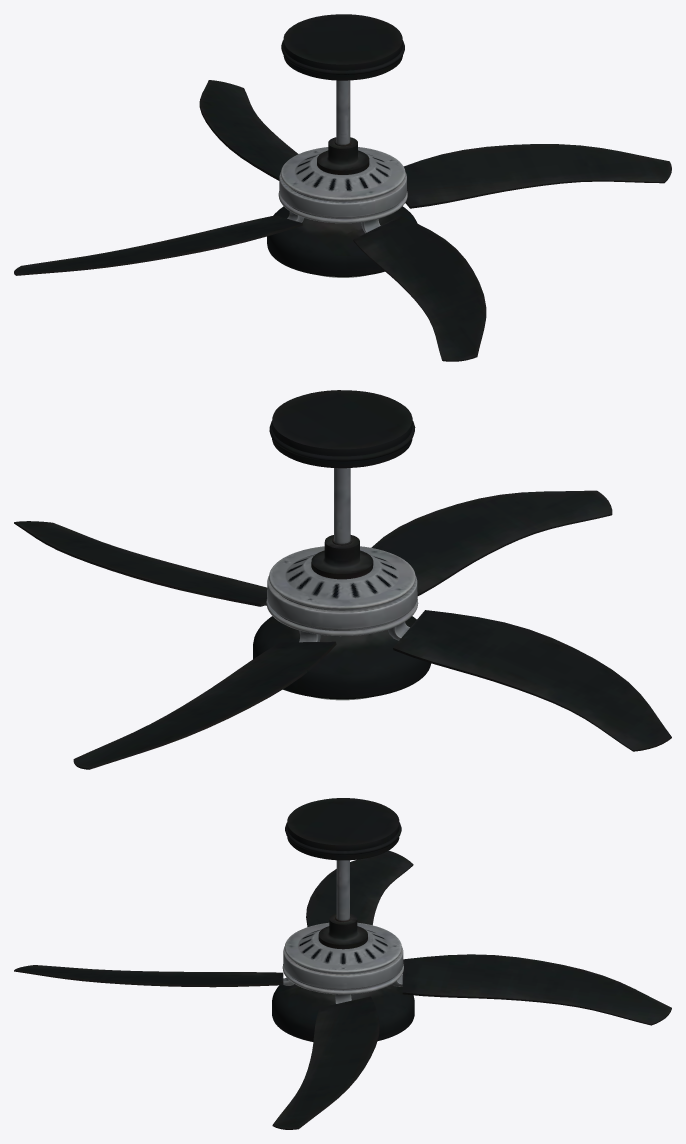
Rendered from ph-ceiling_fan.glb.
3 views of the same model, one above another, from view 1: azimuth 30°, elevation 25°; view 2: azimuth 150°, elevation 25°; view 3: azimuth 270°, elevation 25° (orthographic). The views are drawn at different scales.
Parts seen in each view (by area): view 1: ceiling_fan; view 2: ceiling_fan; view 3: ceiling_fan.
Part boxes in pixels (left/top/right/bottom): ceiling_fan: left=14, top=14, right=671, bottom=361; ceiling_fan: left=14, top=390, right=671, bottom=769; ceiling_fan: left=14, top=798, right=671, bottom=1129.
Size of the model in its own units: 1 by 0.3529 by 1.
Materials: 1 (1 with a texture image).
